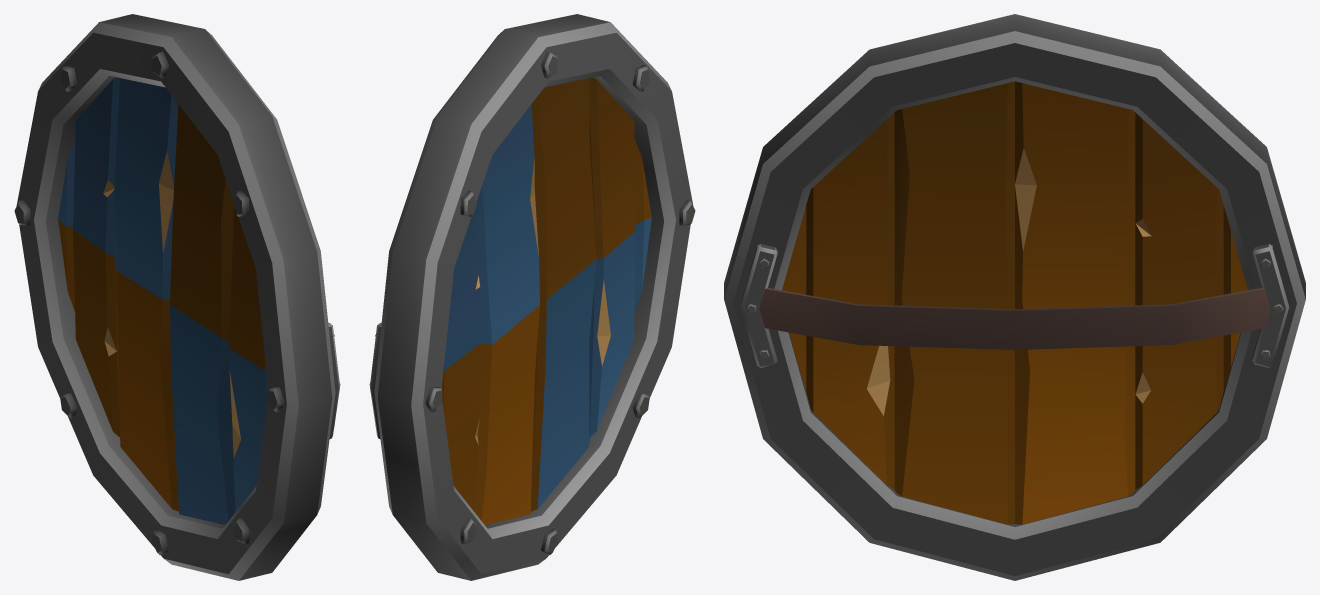
The model's file is Shield_1_A.glb.
3 renders of one model, left to right at view 1: azimuth 30°, elevation 25°; view 2: azimuth 150°, elevation 25°; view 3: azimuth 270°, elevation 25°, orthographic. The views are drawn at different scales.
Parts seen in each view (by area): view 1: Shield_1_A; view 2: Shield_1_A; view 3: Shield_1_A.
Boxes of the visible parts, x1,y1,x2,y2 form: Shield_1_A: (14,14,340,580); Shield_1_A: (369,14,695,580); Shield_1_A: (724,14,1305,580).
Bounding box in the file's own units: 0.1518 × 0.7075 × 0.6784.
2 materials, 2 textured.
